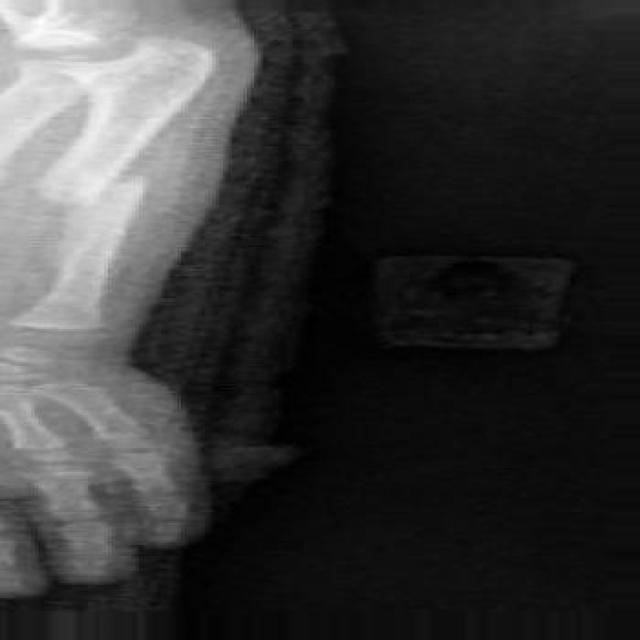Fracture: (24, 170, 154, 204)
